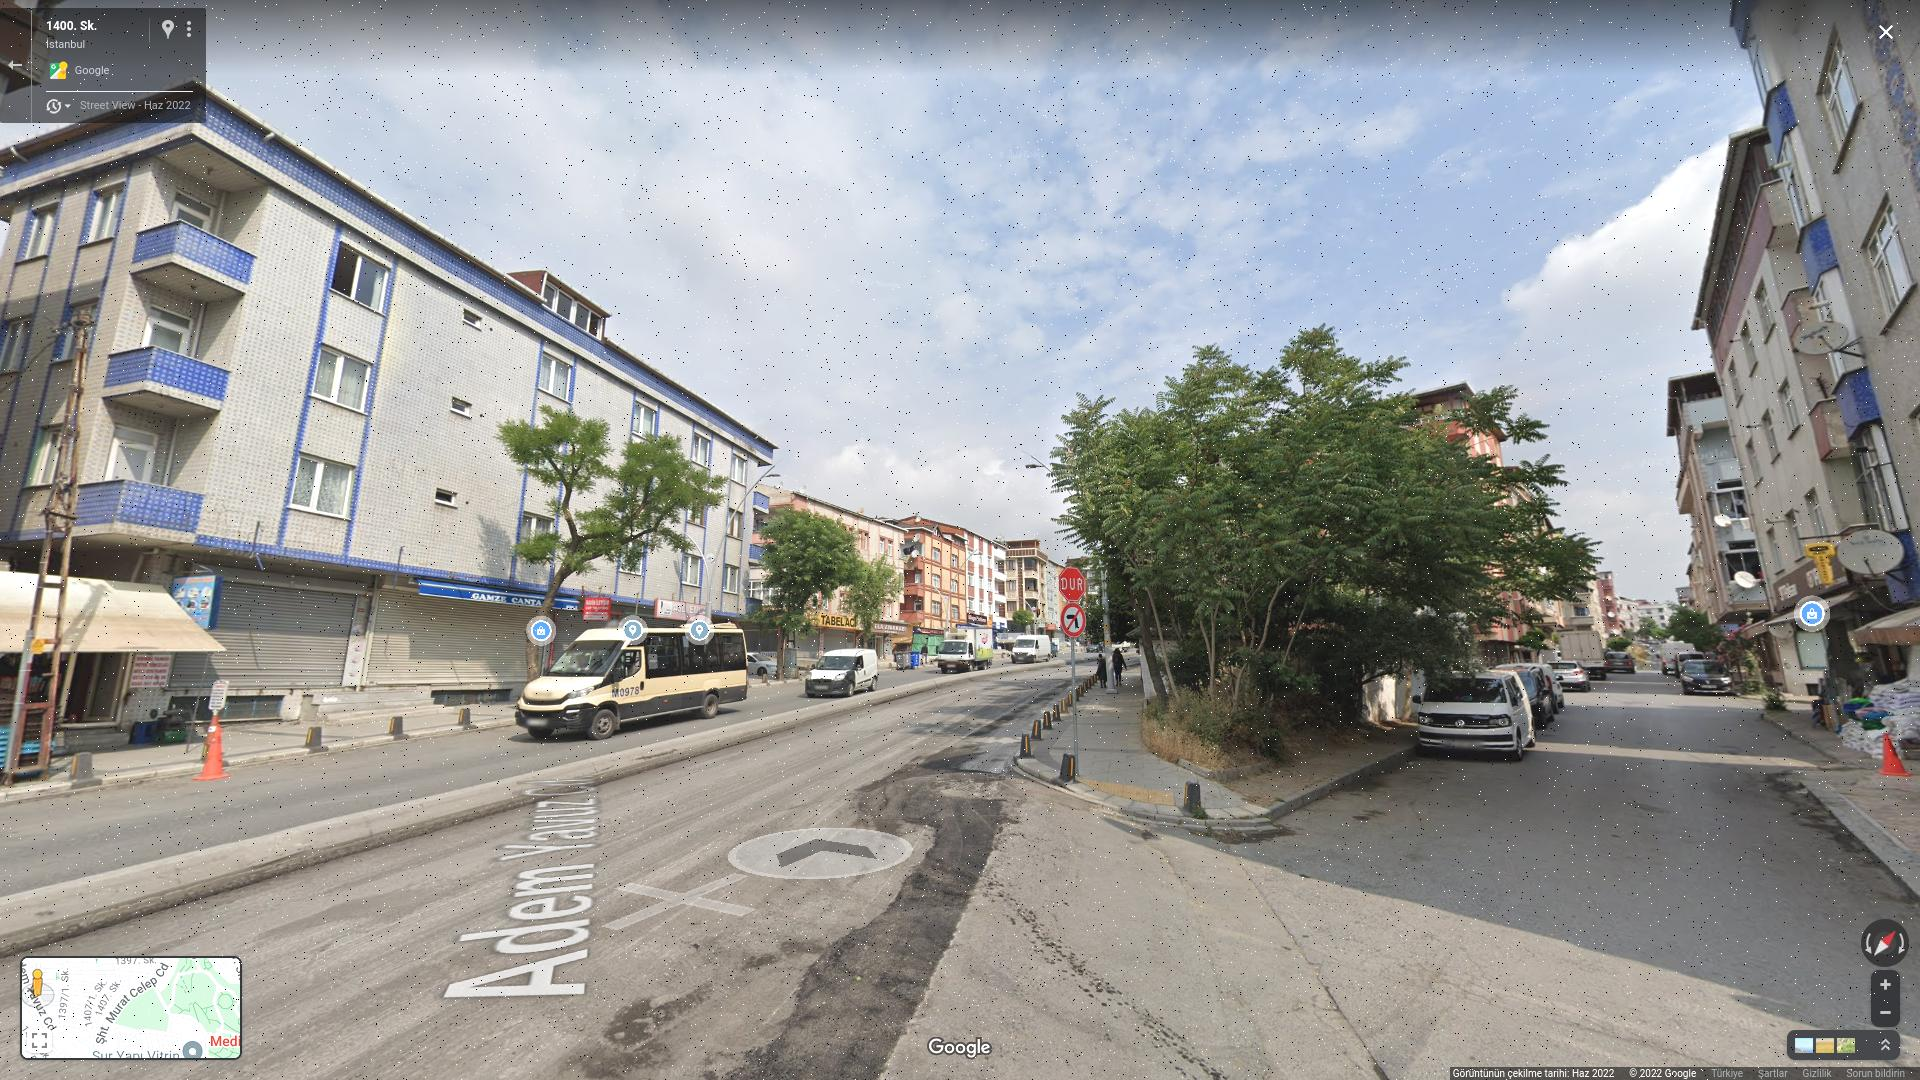leftturnsareforbidden: (1063, 605, 1087, 636)
stop: (1059, 567, 1085, 601)
